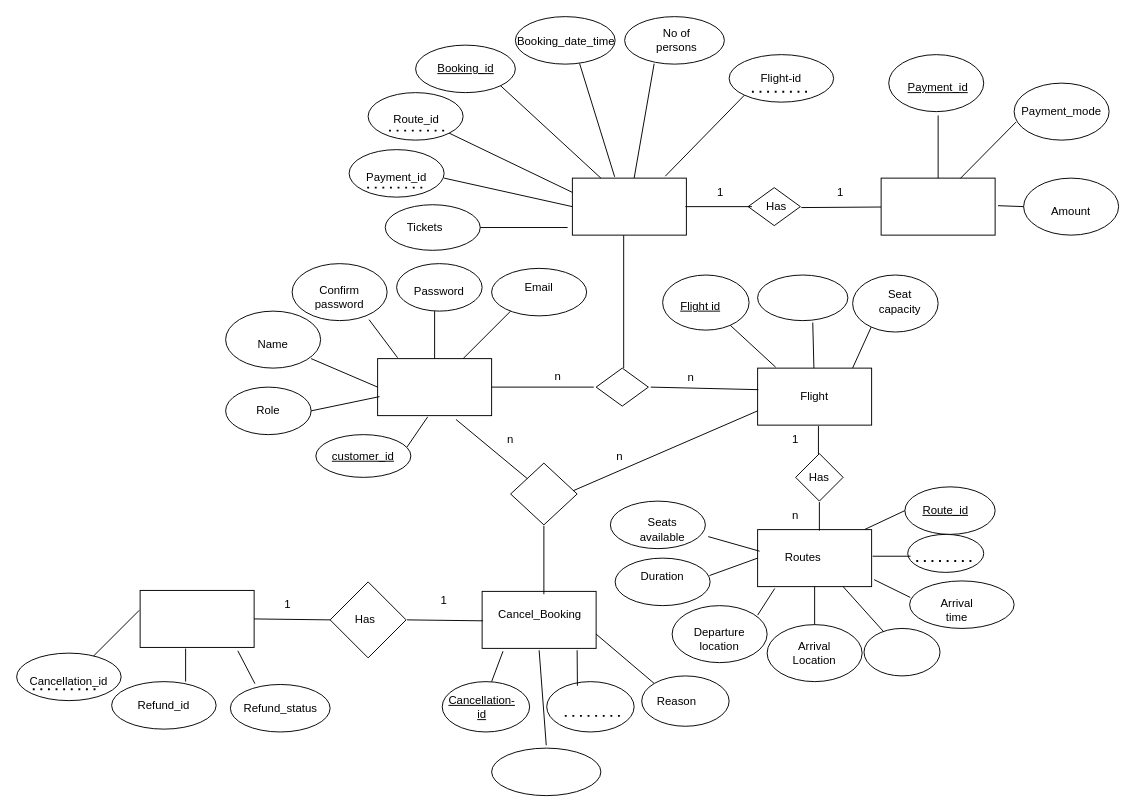
Image size: 1135x812. Some labels were removed from this diagram. Each missing label, with the box of its shape:
Booking: (571, 177, 686, 235)
Booking id: (546, 681, 634, 732)
Books: (595, 367, 648, 406)
Cancel_date_time: (491, 747, 601, 796)
Cancels: (510, 462, 577, 525)
Customer: (377, 358, 492, 416)
Departure time: (863, 627, 940, 676)
Flight name: (757, 274, 848, 321)
Flight_id: (907, 533, 984, 572)
Payment: (880, 177, 995, 235)
Refund: (139, 589, 254, 647)
